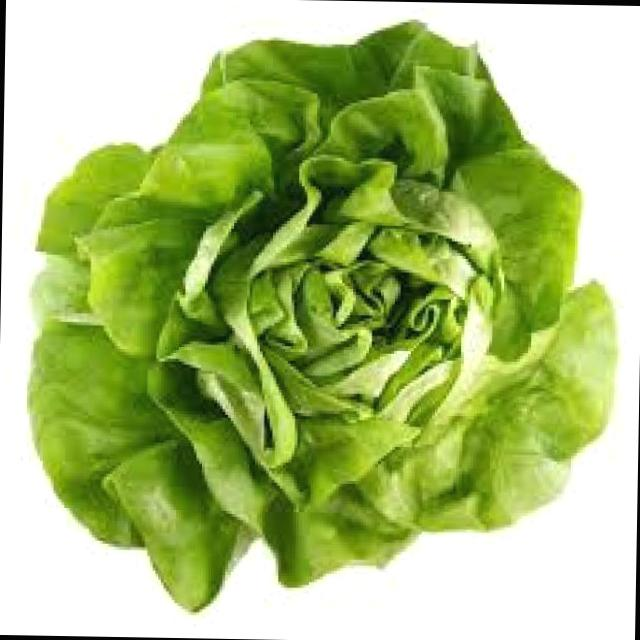Lettuce-Ready-to-Harvest: (30, 23, 614, 609)
